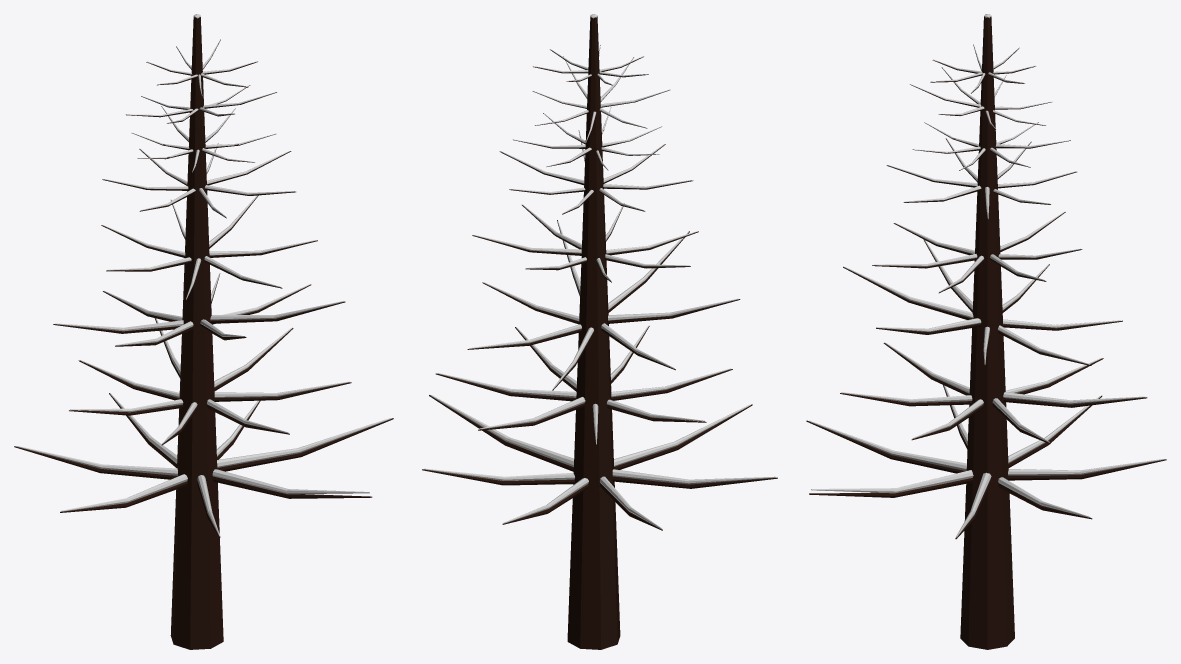
Rendered from Dead tree001.fbx.
3 views of the same model, side by side, from view 1: azimuth 30°, elevation 25°; view 2: azimuth 150°, elevation 25°; view 3: azimuth 270°, elevation 25° (orthographic).
Parts seen in each view (by area): view 1: Cylinder.002; view 2: Cylinder.002; view 3: Cylinder.002.
Boxes of the visible parts, <box> form: Cylinder.002: <box>14,14,393,649</box>; Cylinder.002: <box>422,14,777,649</box>; Cylinder.002: <box>806,14,1166,649</box>.
Bounding box in the file's own units: 1439 × 2516 × 1316.
